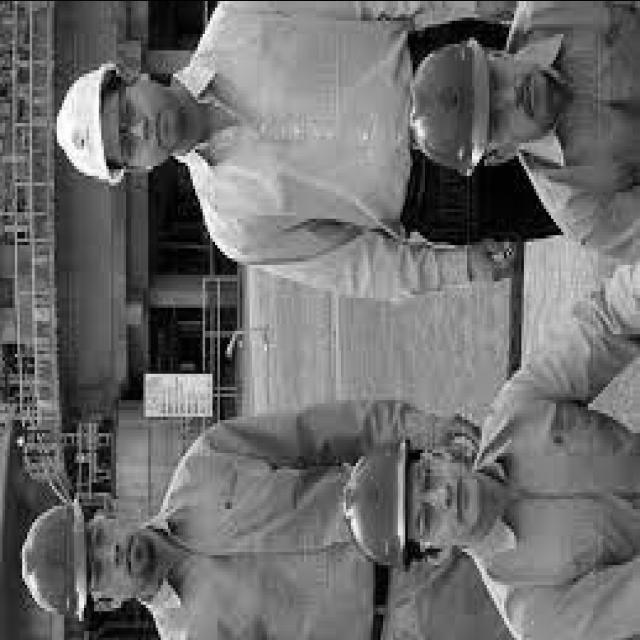safety_helmet: (57, 59, 126, 181)
